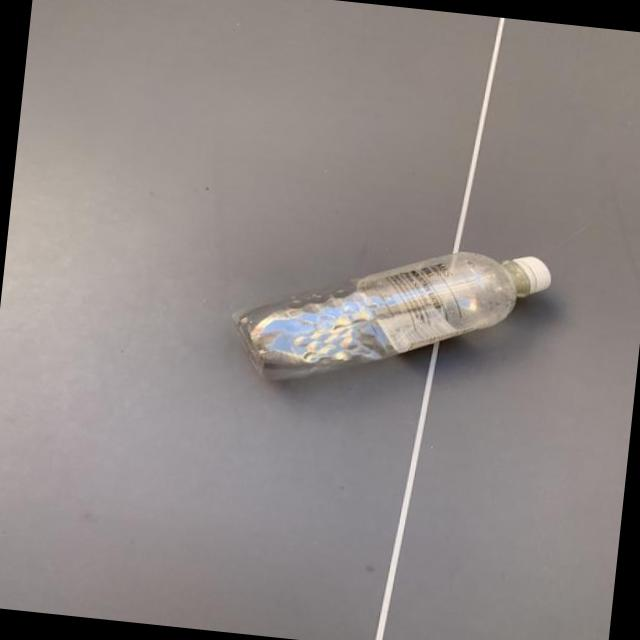plastic_bottle: (225, 226, 552, 408)
